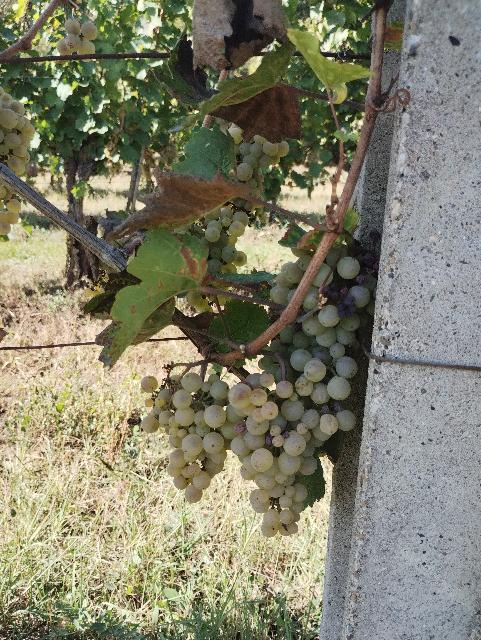grapes: (229, 350, 356, 536), (260, 246, 378, 374), (142, 372, 230, 502), (270, 250, 314, 305)
